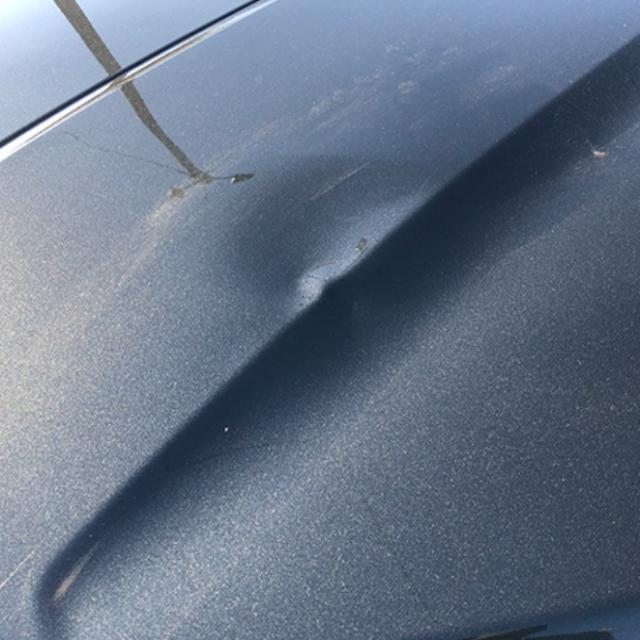dents: (232, 176, 460, 400)
